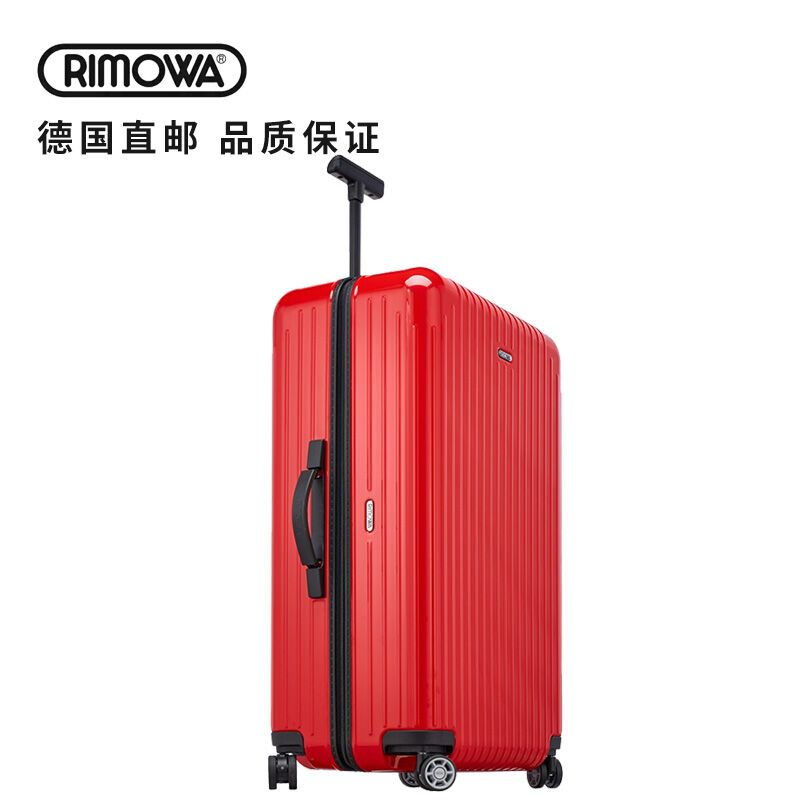luggage: (268, 155, 564, 790)
